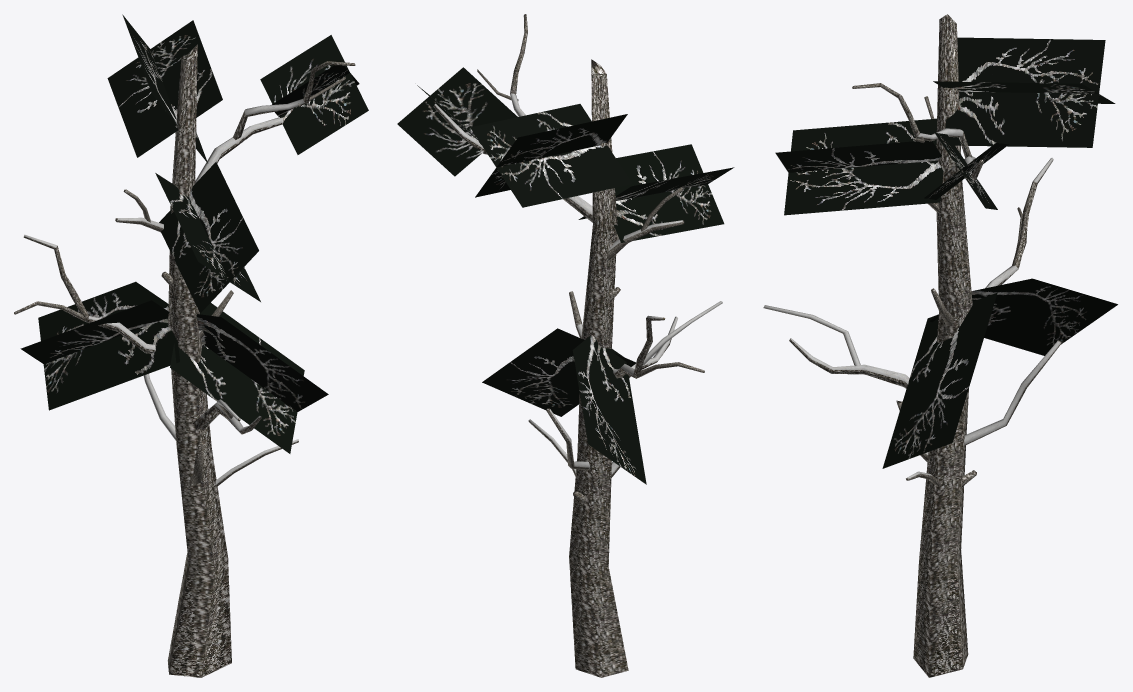
File: tree_goth_dead_lg_snow.fbx
3 renders of one model, left to right at view 1: azimuth 30°, elevation 25°; view 2: azimuth 150°, elevation 25°; view 3: azimuth 270°, elevation 25°, orthographic. The views are drawn at different scales.
Visible parts, largest first — view 1: mesh_19, mesh_30, mesh_32, mesh_31, mesh_29, mesh_33, mesh_6, mesh_10, mesh_11; view 2: mesh_19, mesh_29, mesh_31, mesh_30, mesh_33, mesh_32, mesh_6; view 3: mesh_19, mesh_29, mesh_31, mesh_32, mesh_30, mesh_33, mesh_26, mesh_11, mesh_6, mesh_14, mesh_18, mesh_13.
Part boxes in pixels (x1,y1,x2,y2): mesh_19: (167, 44, 231, 677); mesh_30: (20, 281, 179, 410); mesh_32: (170, 303, 328, 453); mesh_31: (155, 161, 260, 313); mesh_29: (107, 14, 222, 163); mesh_33: (260, 35, 368, 154); mesh_6: (23, 236, 155, 353); mesh_10: (195, 117, 283, 183); mesh_11: (233, 61, 355, 139); mesh_19: (569, 59, 628, 677); mesh_29: (470, 104, 632, 207); mesh_31: (578, 144, 734, 242); mesh_30: (572, 334, 646, 484); mesh_33: (397, 67, 517, 176); mesh_32: (482, 328, 635, 416); mesh_6: (613, 317, 665, 378); mesh_19: (913, 14, 972, 677); mesh_29: (933, 37, 1115, 147); mesh_31: (775, 118, 943, 215); mesh_32: (882, 292, 997, 468); mesh_30: (929, 278, 1117, 355); mesh_33: (924, 133, 1008, 209); mesh_26: (964, 340, 1060, 444); mesh_11: (852, 83, 972, 158); mesh_6: (998, 160, 1053, 285); mesh_14: (790, 338, 909, 384); mesh_18: (763, 305, 860, 365); mesh_13: (789, 339, 907, 388).
Bounding box in the file's own units: 805 × 1445 × 715.
3 materials, 3 textured.
